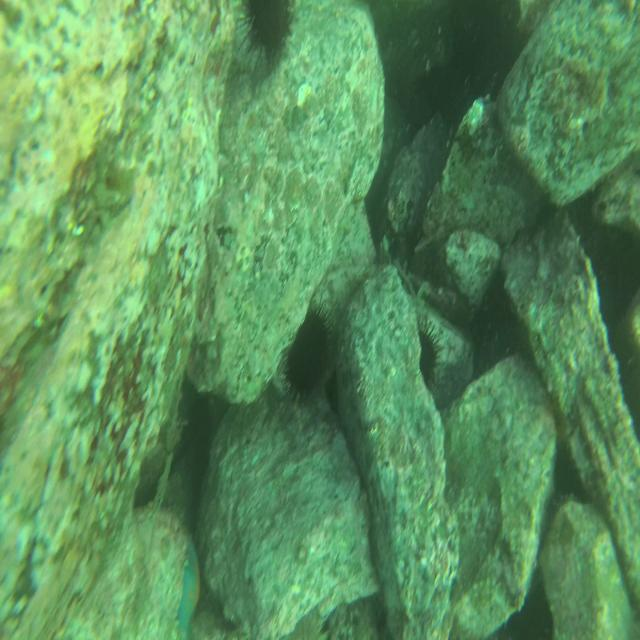echinus: (290, 305, 334, 383), (240, 0, 289, 65), (418, 320, 438, 381)
starfish: (178, 538, 201, 637)
